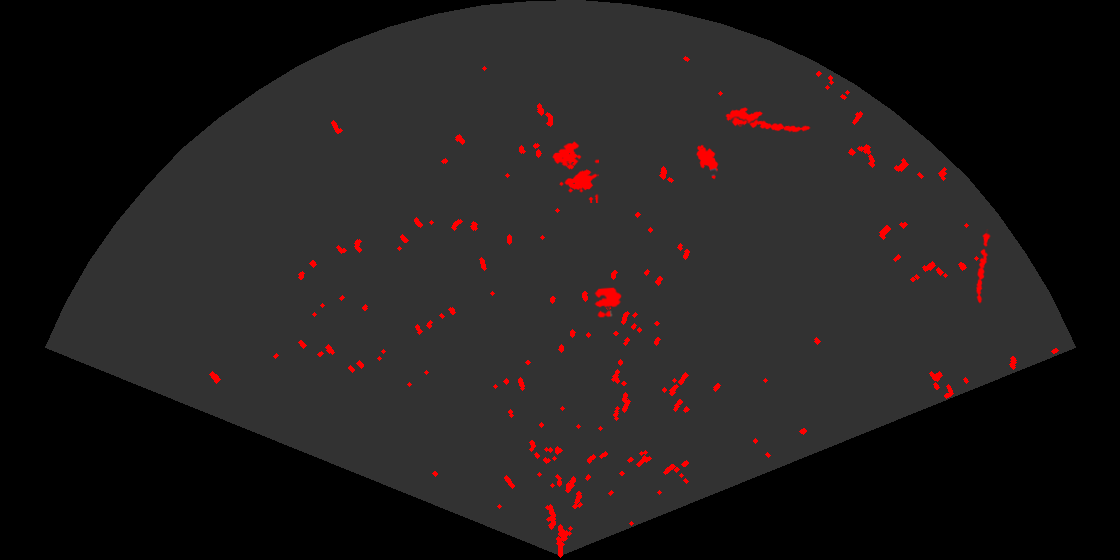AUV: (695, 143, 720, 181), (724, 106, 765, 129)
ball: (593, 286, 623, 319)
cage: (551, 140, 599, 203)
chain: (728, 116, 811, 134), (974, 229, 992, 304)
